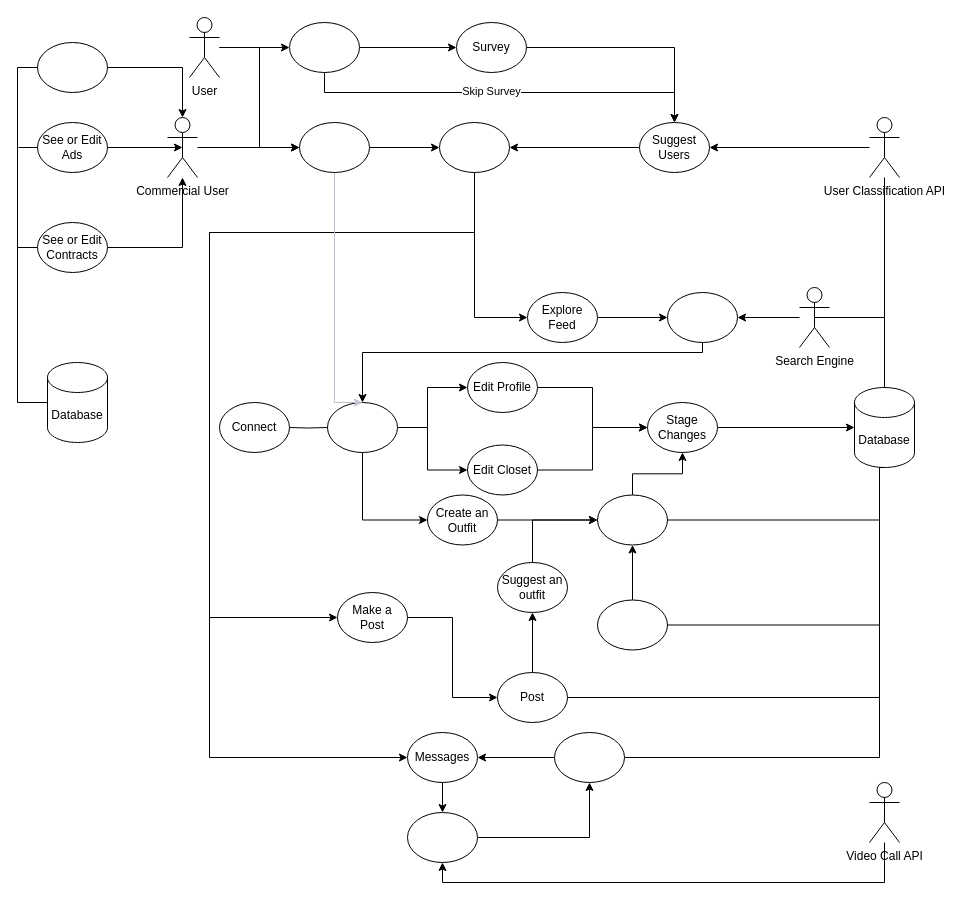
The diagram is 962 pixels wide and 908 high, and some of its shapes have lost their labels. Each missing label, with the centre of its shape:
"Edit outfit" goes at pixel 632 624.
"Feed" goes at pixel 474 147.
"Get or Set Messages" goes at pixel 589 757.
"Login" goes at pixel 334 147.
"Profile" goes at pixel 362 427.
"Search" goes at pixel 702 317.
"Select outfit & save" goes at pixel 632 519.
"Send Message" goes at pixel 442 837.
"Signup" goes at pixel 324 47.
"Statistics" goes at pixel 72 67.
